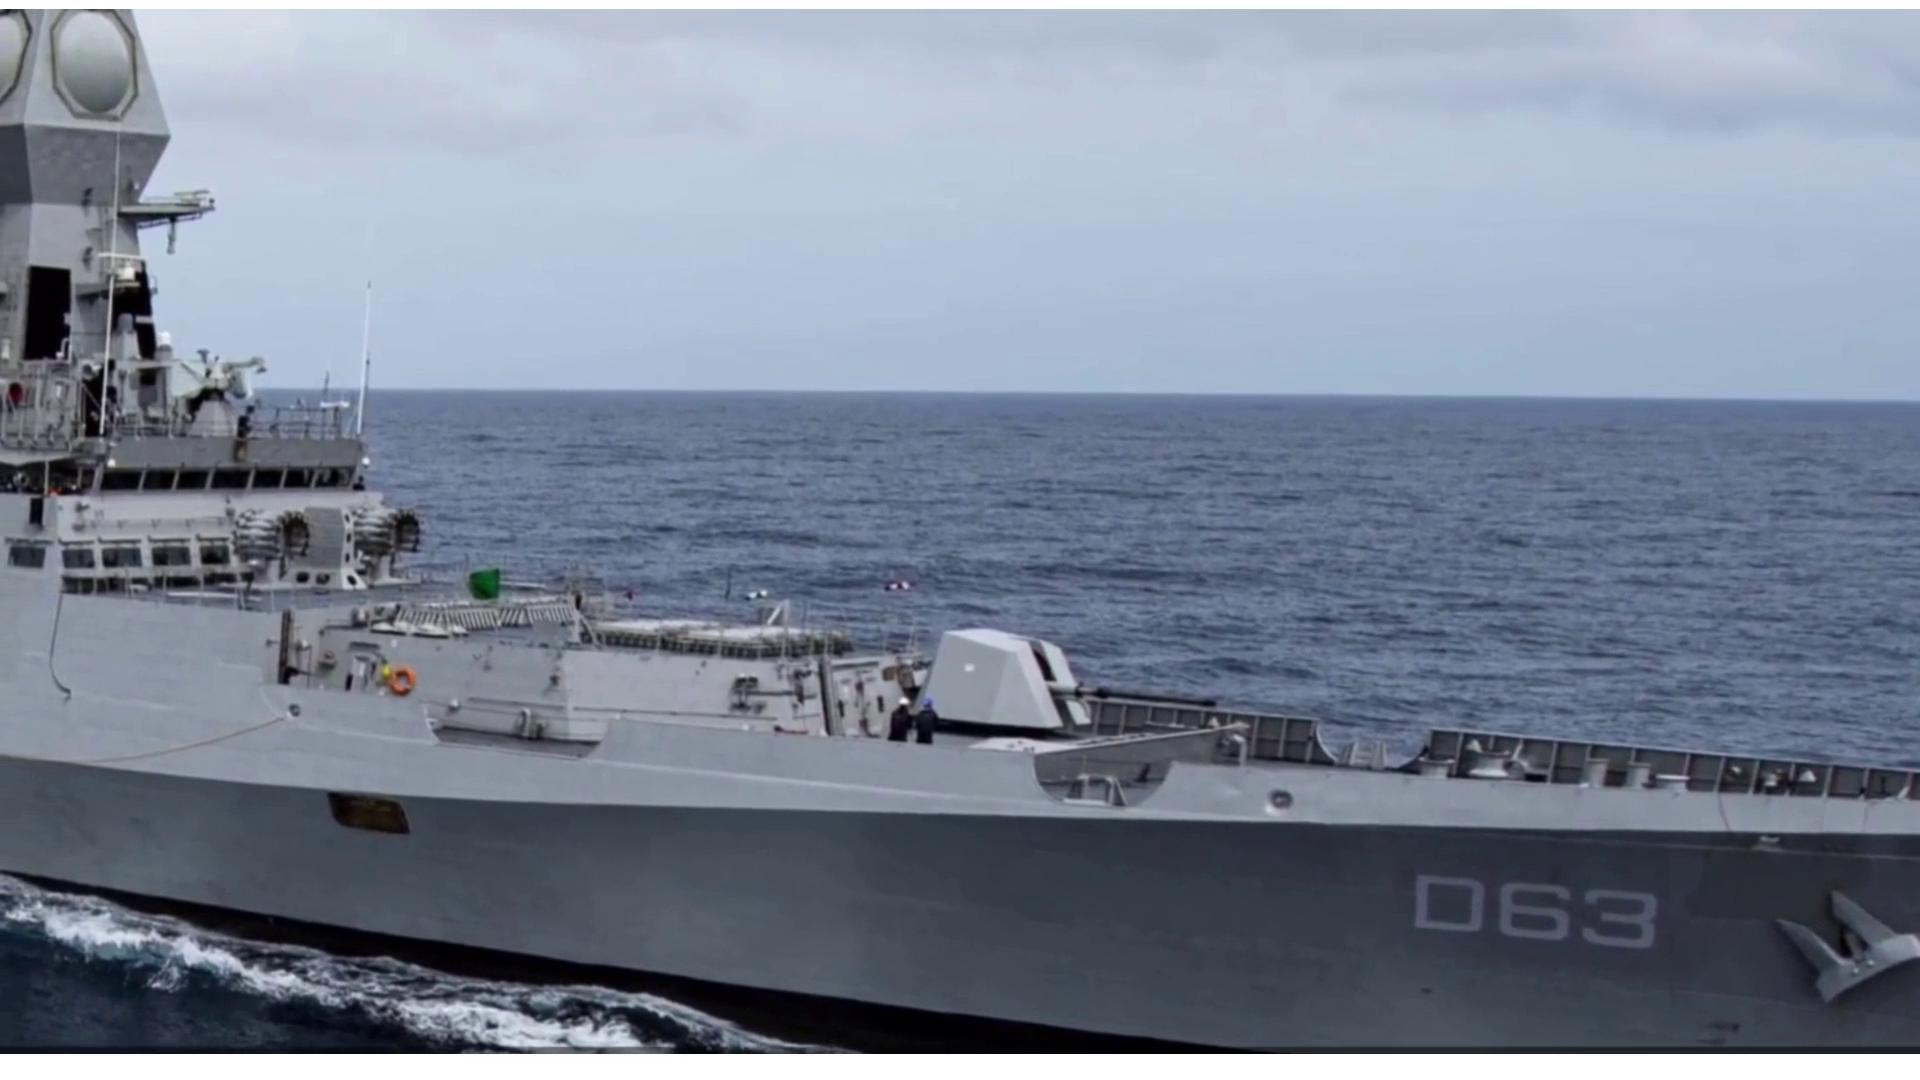OCR: (1404, 862, 1673, 960)
